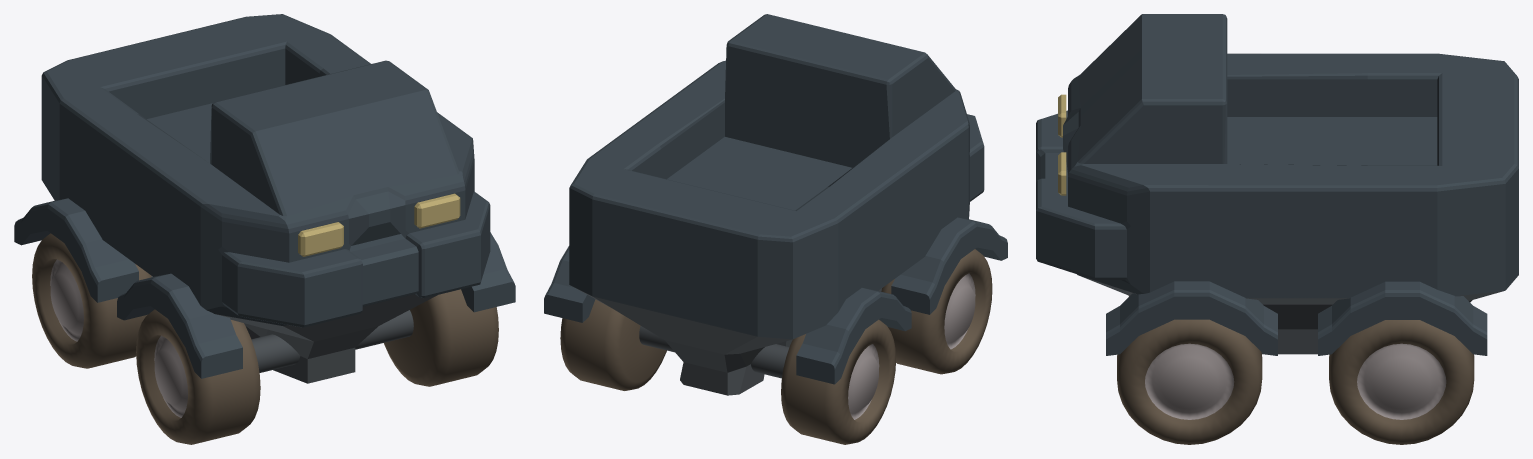
The model's file is BabyCar.fbx.
The picture shows the model from 3 angles, left to right: view 1: azimuth 30°, elevation 25°; view 2: azimuth 150°, elevation 25°; view 3: azimuth 270°, elevation 25°; orthographic projection. The views are drawn at different scales.
Visible parts, largest first — view 1: BabyCar; view 2: BabyCar; view 3: BabyCar.
Part boxes in pixels (<box>): BabyCar: <box>14,14,515,444</box>; BabyCar: <box>544,14,1007,444</box>; BabyCar: <box>1036,14,1518,444</box>.
Size of the model in its own units: 1.05 by 0.9951 by 1.37.
